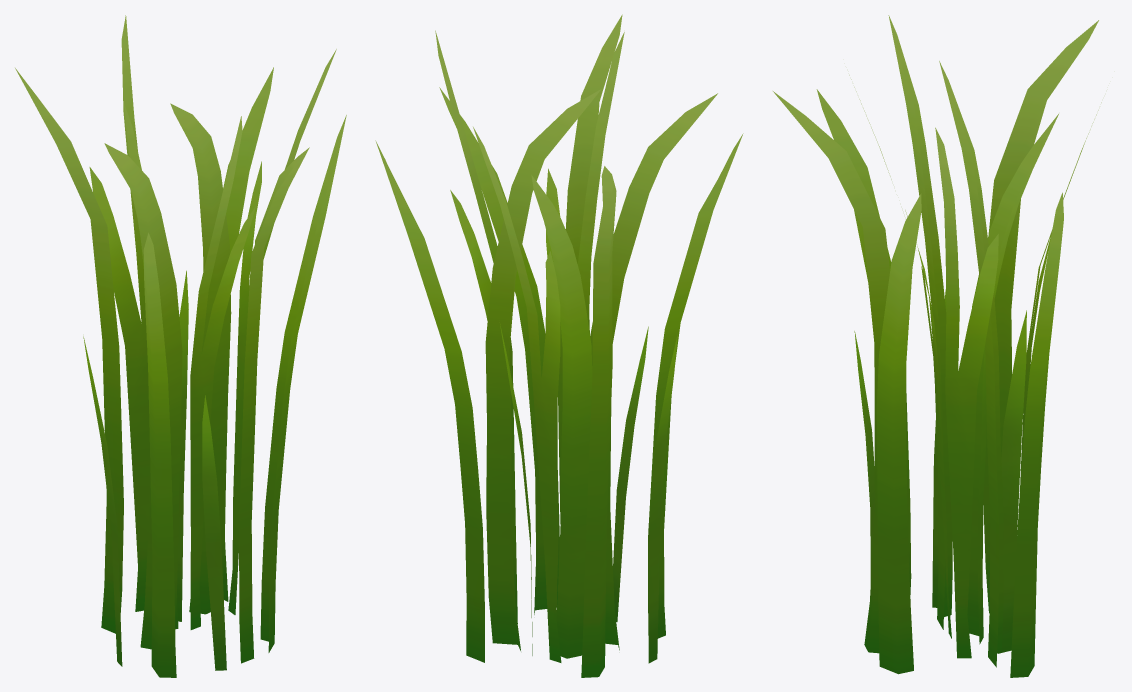
File: nkgrass.glb
The picture shows the model from 3 angles, left to right: view 1: azimuth 30°, elevation 25°; view 2: azimuth 150°, elevation 25°; view 3: azimuth 270°, elevation 25°; orthographic projection. The views are drawn at different scales.
Visible parts, largest first — view 1: Grass_Common_Tall; view 2: Grass_Common_Tall; view 3: Grass_Common_Tall.
Part boxes in pixels (x1,y1,x2,y2): Grass_Common_Tall: (15,15,346,677); Grass_Common_Tall: (375,14,743,677); Grass_Common_Tall: (773,15,1101,677).
Bounding box in the file's own units: 0.8951 × 1.87 × 0.9932.
1 material, 1 textured.
